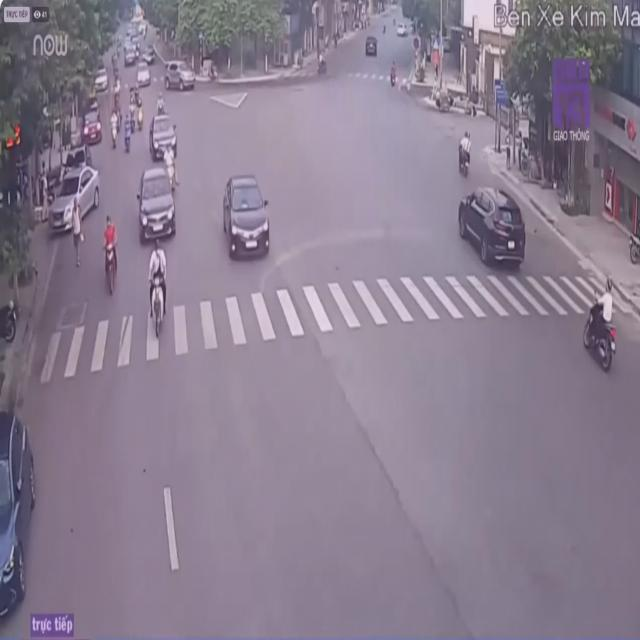car: (0, 413, 37, 625), (460, 184, 526, 268), (219, 174, 271, 264), (135, 169, 177, 244), (49, 167, 97, 226), (149, 112, 179, 157)
motorbike: (580, 290, 618, 378), (145, 242, 170, 332), (100, 216, 121, 293), (457, 129, 474, 177), (164, 148, 180, 190)
